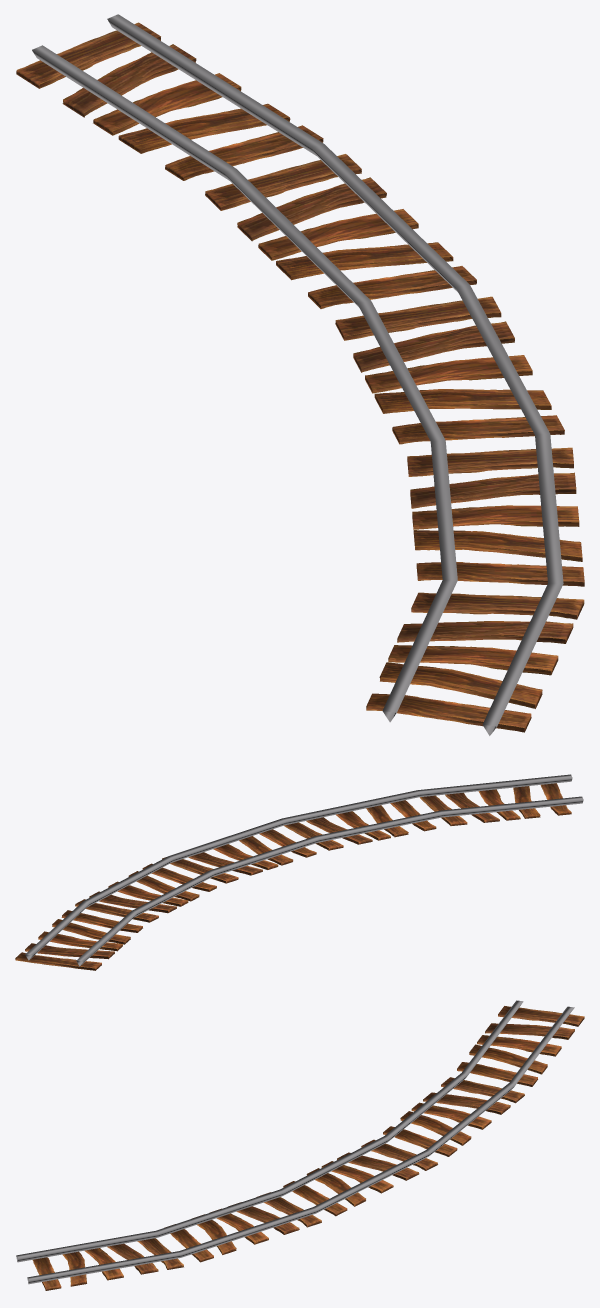
The model's file is SWORDLIGHT20_MAIN1RAILS1NW.fbx.
3 renders of one model, top to bottom at view 1: azimuth 30°, elevation 25°; view 2: azimuth 150°, elevation 25°; view 3: azimuth 330°, elevation 25°, orthographic. The views are drawn at different scales.
Parts seen in each view (by area): view 1: SWORDLIGHT20_MAIN1RAILS1NW; view 2: SWORDLIGHT20_MAIN1RAILS1NW; view 3: SWORDLIGHT20_MAIN1RAILS1NW.
Part boxes in pixels (x1=…): SWORDLIGHT20_MAIN1RAILS1NW: x1=16, y1=14, x2=584, y2=735; SWORDLIGHT20_MAIN1RAILS1NW: x1=15, y1=774, x2=583, y2=970; SWORDLIGHT20_MAIN1RAILS1NW: x1=16, y1=1000, x2=584, y2=1290.
Size of the model in its own units: 56265 by 11712 by 144849.
2 materials, 2 textured.
